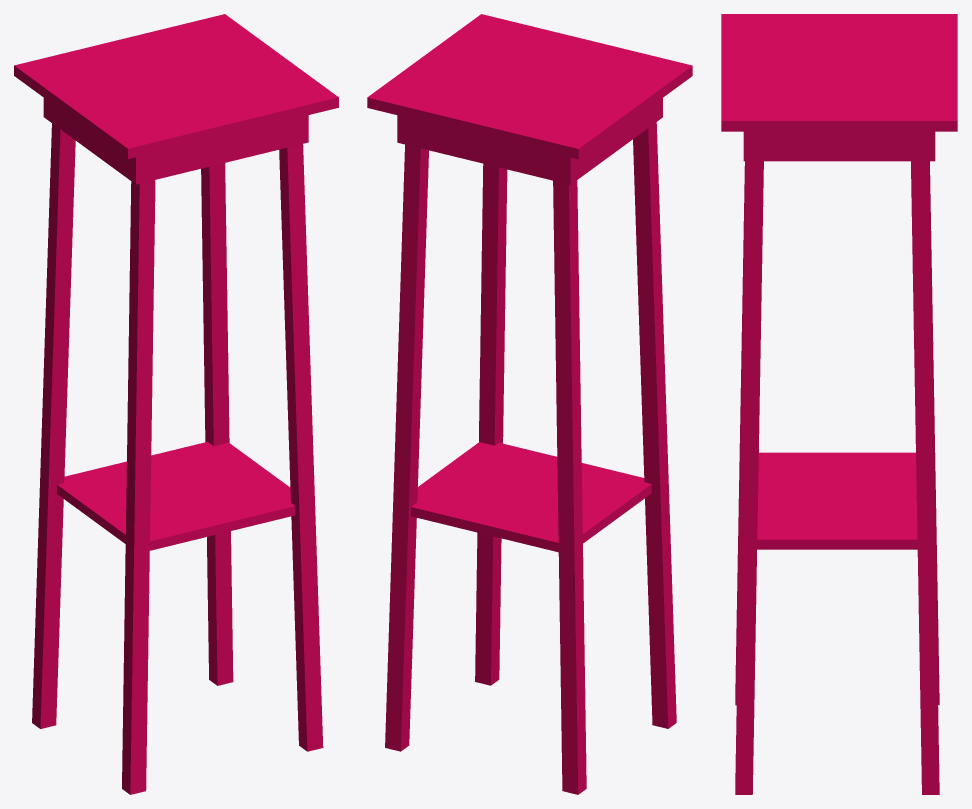
The model's file is Small_Table_01_Lod0.fbx.
3 renders of one model, left to right at view 1: azimuth 30°, elevation 25°; view 2: azimuth 150°, elevation 25°; view 3: azimuth 270°, elevation 25°, orthographic. The views are drawn at different scales.
Parts seen in each view (by area): view 1: Small_Table_01_Lod0; view 2: Small_Table_01_Lod0; view 3: Small_Table_01_Lod0.
Boxes of the visible parts, x1,y1,x2,y2 form: Small_Table_01_Lod0: [14, 14, 338, 794]; Small_Table_01_Lod0: [367, 14, 692, 794]; Small_Table_01_Lod0: [721, 14, 957, 794].
Bounding box in the file's own units: 28.61 × 84.69 × 26.75.
